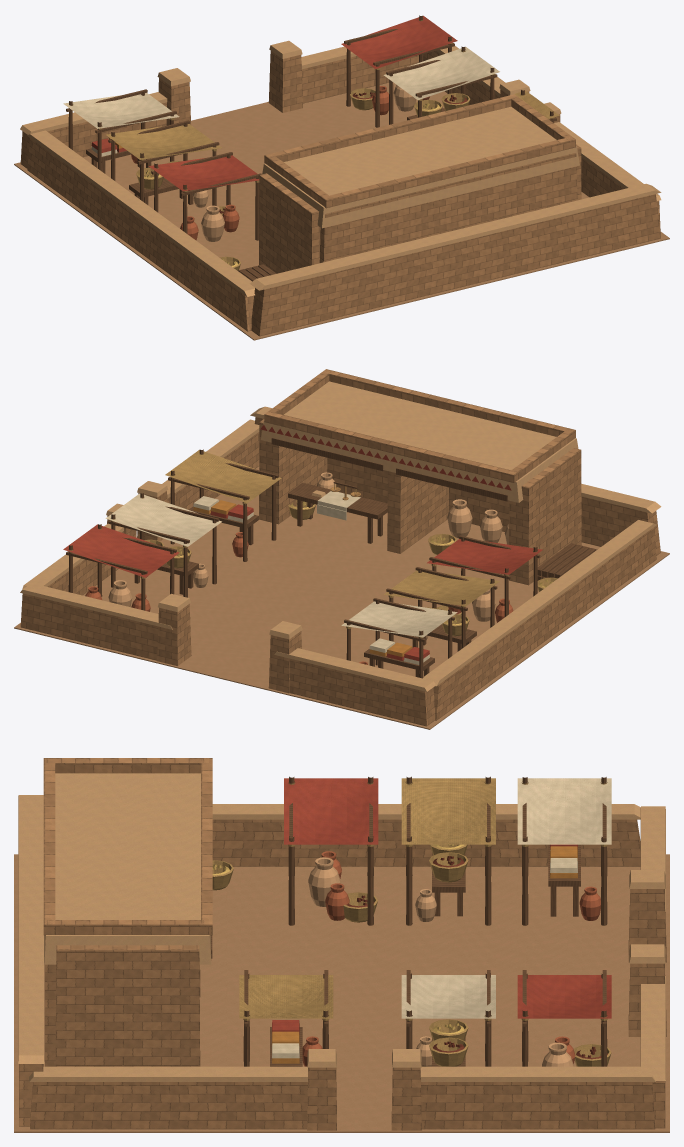
Rendered from market-2x2.glb.
3 renders of one model, top to bottom at view 1: azimuth 30°, elevation 25°; view 2: azimuth 150°, elevation 25°; view 3: azimuth 270°, elevation 25°, orthographic. The views are drawn at different scales.
Visible parts, largest first — view 1: Сырцовая кладка, Глиняная штукатурка, Утрамбованный двор, Дерево, Красноватая шерсть, Светлая шерсть, Тростник и плетение, Светлая керамика, Терракота; view 2: Сырцовая кладка, Утрамбованный двор, Глиняная штукатурка, Дерево, Тростник и плетение, Светлая шерсть, Красноватая шерсть, Светлая керамика, Терракота, Охристая шерсть; view 3: Сырцовая кладка, Утрамбованный двор, Глиняная штукатурка, Тростник и плетение, Светлая шерсть, Красноватая шерсть, Дерево, Светлая керамика, Терракота, Охристая шерсть, Финики.
Part boxes in pixels (<box>): Сырцовая кладка: <box>20,51,660,336</box>; Глиняная штукатурка: <box>20,40,661,296</box>; Утрамбованный двор: <box>14,82,669,340</box>; Дерево: <box>66,15,556,281</box>; Красноватая шерсть: <box>91,15,457,191</box>; Светлая шерсть: <box>63,47,499,156</box>; Тростник и плетение: <box>71,18,559,270</box>; Светлая керамика: <box>192,85,415,241</box>; Терракота: <box>131,86,429,240</box>; Сырцовая кладка: <box>20,369,660,726</box>; Утрамбованный двор: <box>14,466,669,729</box>; Глиняная штукатурка: <box>20,381,661,691</box>; Дерево: <box>66,438,597,678</box>; Тростник и плетение: <box>68,450,557,638</box>; Светлая шерсть: <box>105,491,457,664</box>; Красноватая шерсть: <box>63,425,542,660</box>; Светлая керамика: <box>108,472,509,641</box>; Терракота: <box>85,532,513,664</box>; Охристая шерсть: <box>193,500,412,656</box>; Сырцовая кладка: <box>19,758,666,1130</box>; Утрамбованный двор: <box>14,854,669,1132</box>; Глиняная штукатурка: <box>18,773,665,1081</box>; Тростник и плетение: <box>212,778,611,1066</box>; Светлая шерсть: <box>272,778,611,1058</box>; Красноватая шерсть: <box>272,778,611,1034</box>; Дерево: <box>211,776,607,1066</box>; Светлая керамика: <box>308,857,573,1066</box>; Терракота: <box>302,851,600,1066</box>; Охристая шерсть: <box>272,846,577,1063</box>; Финики: <box>347,856,607,1059</box>.
Size of the model in its own units: 11.55 by 2.97 by 11.55.
Materials: 13 (13 with a texture image).
